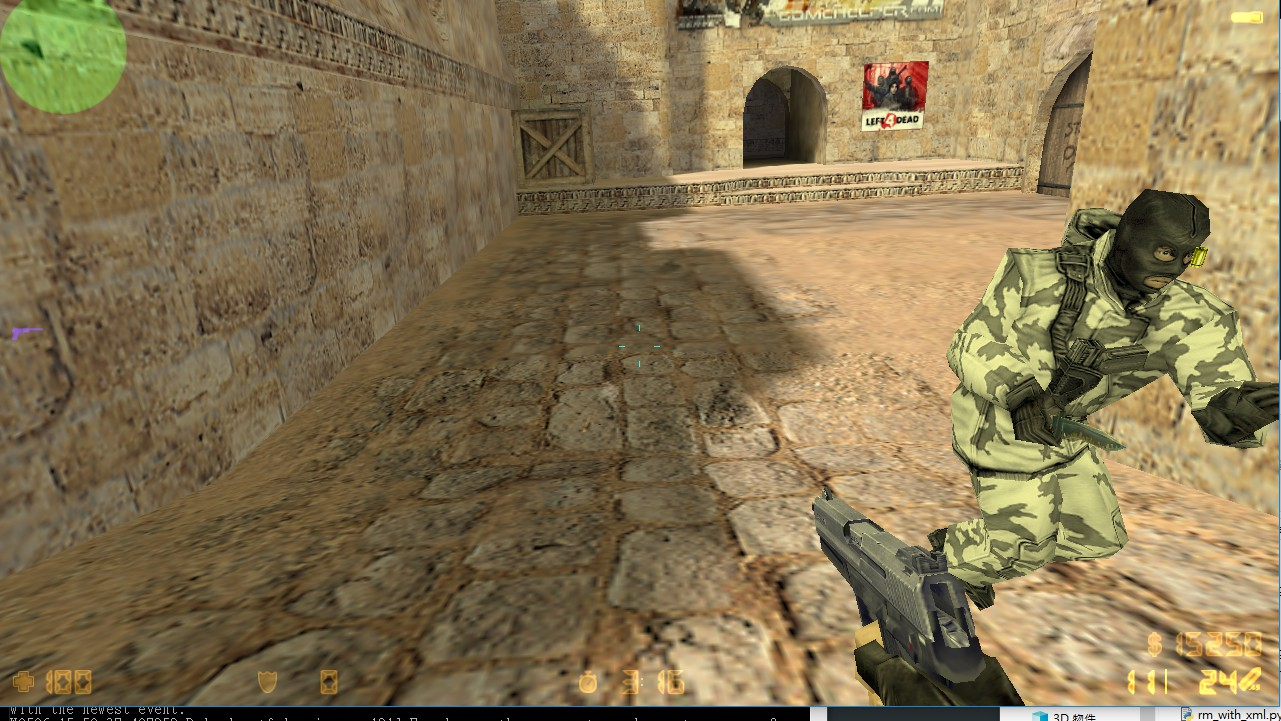person: (924, 176, 1218, 609)
